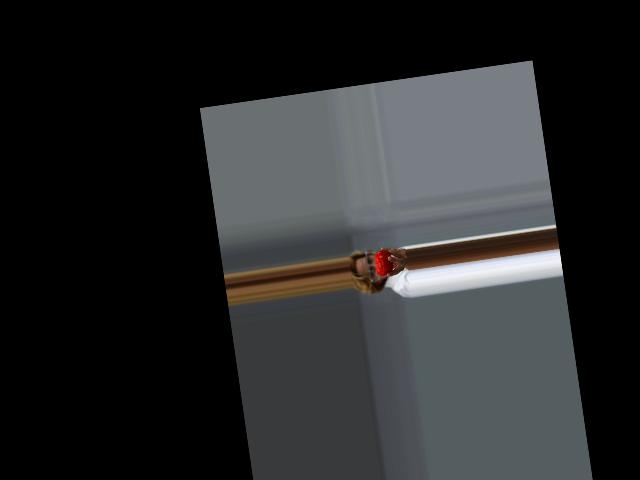tomato: (374, 249, 394, 277)
